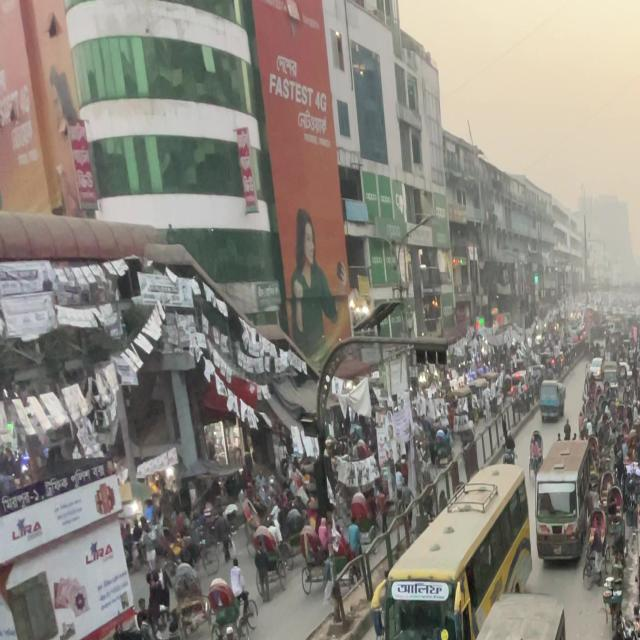bus: (375, 466, 530, 640), (535, 432, 592, 572)
motorbike: (594, 631, 638, 640)
van: (538, 374, 567, 421)
